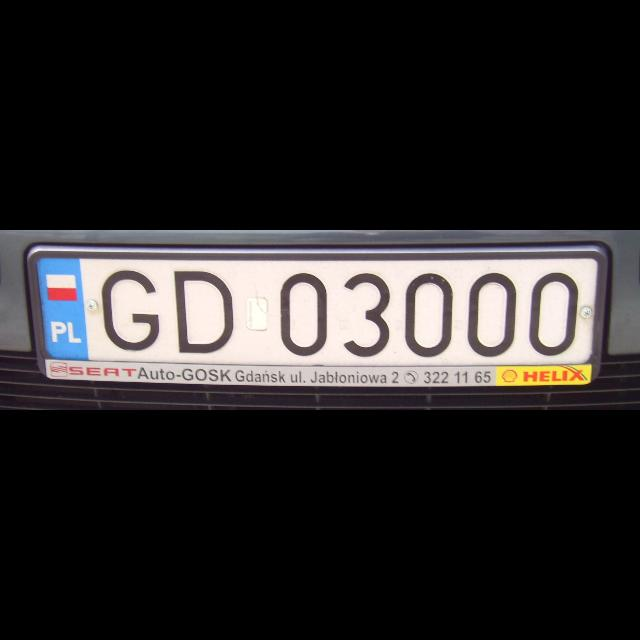pl_license_plate: (32, 251, 600, 367)
